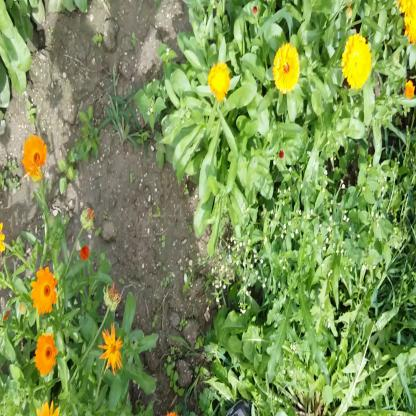marigold: (342, 38, 371, 88), (272, 44, 300, 95), (99, 325, 125, 373), (33, 274, 57, 318), (23, 134, 46, 179), (208, 62, 231, 102), (36, 334, 57, 372)
